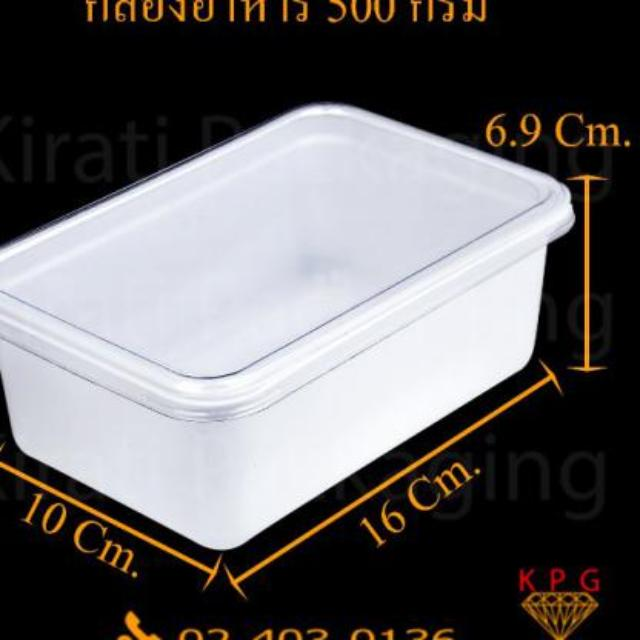plastic_box: (1, 106, 574, 552)
